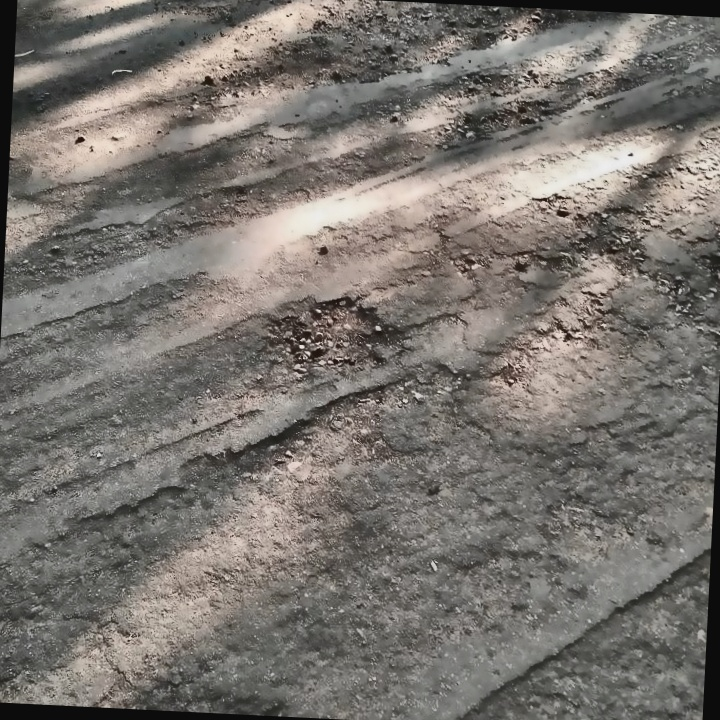pothole: (261, 288, 407, 375)
